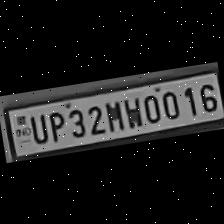0: (138, 89, 163, 125), (158, 86, 183, 120)
1: (176, 82, 200, 118)
2: (82, 100, 106, 136)
3: (63, 103, 87, 139)
6: (194, 78, 219, 114)
M: (102, 96, 126, 132)
P: (44, 107, 68, 143)
U: (25, 110, 50, 144)
W: (120, 92, 144, 130)
